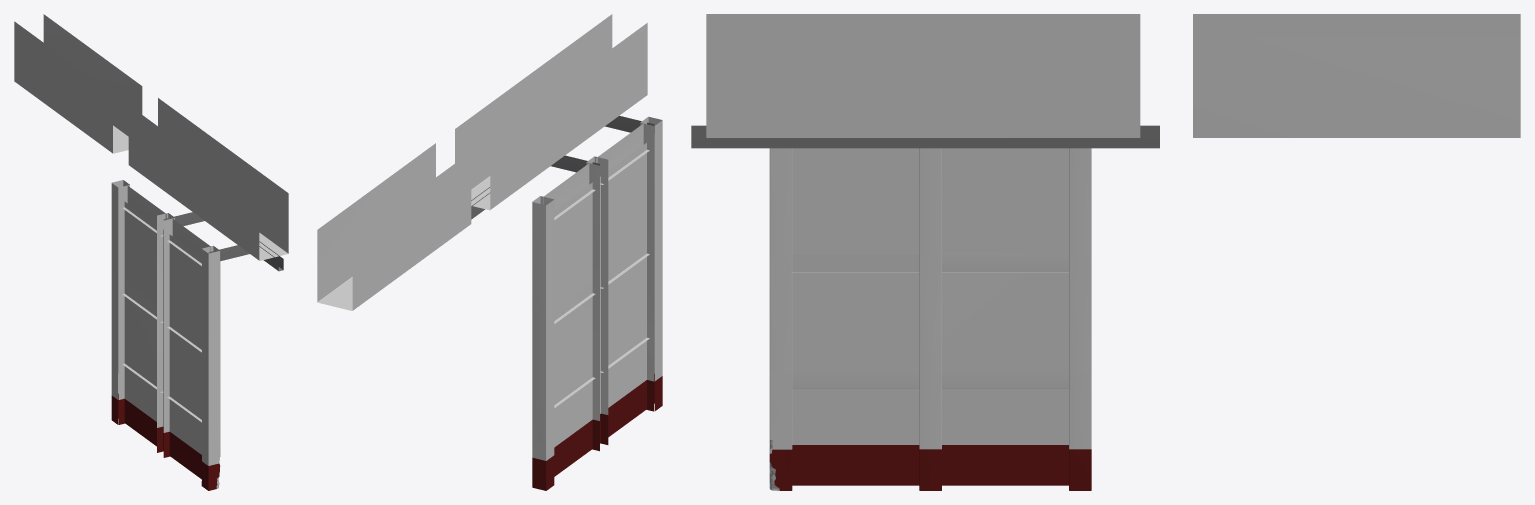
File: SM_H_Building_Tide_Jail_A_03b_ATLAS.fbx
The picture shows the model from 3 angles, left to right: view 1: azimuth 30°, elevation 25°; view 2: azimuth 150°, elevation 25°; view 3: azimuth 270°, elevation 25°; orthographic projection. The views are drawn at different scales.
Visible parts, largest first — view 1: SM_H_Building_Tide_Jail_A_03b_ATLAS; view 2: SM_H_Building_Tide_Jail_A_03b_ATLAS; view 3: SM_H_Building_Tide_Jail_A_03b_ATLAS.
Boxes of the visible parts, <box> form: SM_H_Building_Tide_Jail_A_03b_ATLAS: <box>14,14,288,490</box>; SM_H_Building_Tide_Jail_A_03b_ATLAS: <box>317,14,662,490</box>; SM_H_Building_Tide_Jail_A_03b_ATLAS: <box>691,14,1520,490</box>.
Bounding box in the file's own units: 486 × 3429 × 2250.
